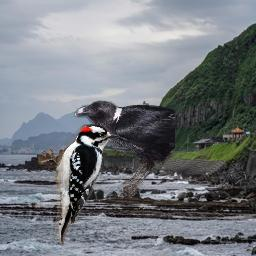Crow: (74, 100, 175, 199)
Woodpecker: (38, 124, 118, 244)
